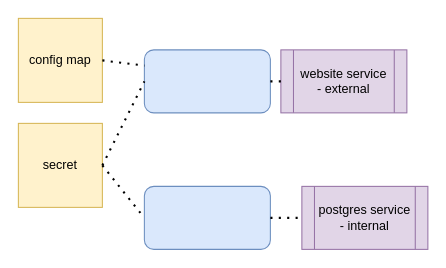
The diagram is 446 pixels wide and 268 high, and some of its shapes have lost their labels. The centre of each missing label's shape, as x and y in pixels:
"postgress" belongs at point 206,217.
"website" belongs at point 206,81.
